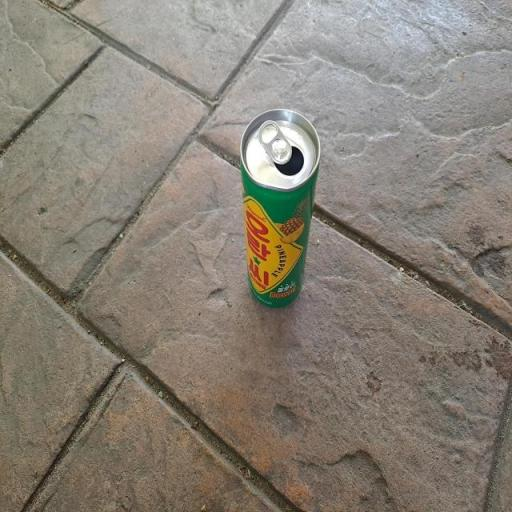metal: (224, 88, 336, 326)
